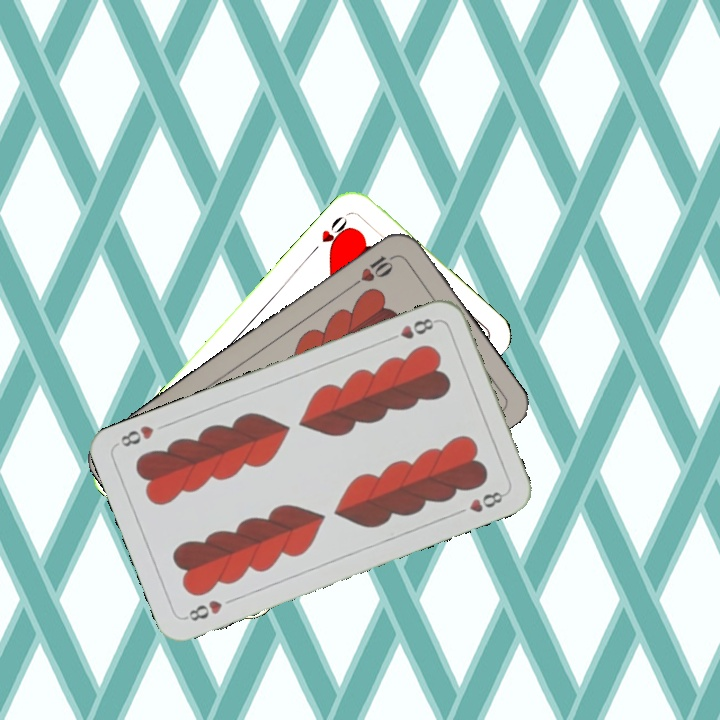H10: (347, 251, 398, 291)
H8: (383, 314, 440, 344), (181, 596, 225, 624)
HO: (306, 212, 354, 257)
